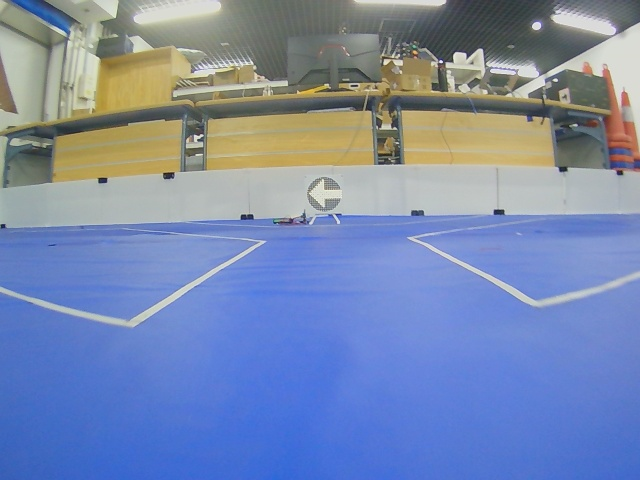left_yellow: (307, 177, 342, 212)
